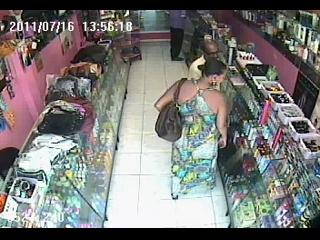Normal: (154, 59, 230, 200), (154, 78, 188, 143), (188, 39, 226, 81), (166, 10, 187, 61)
